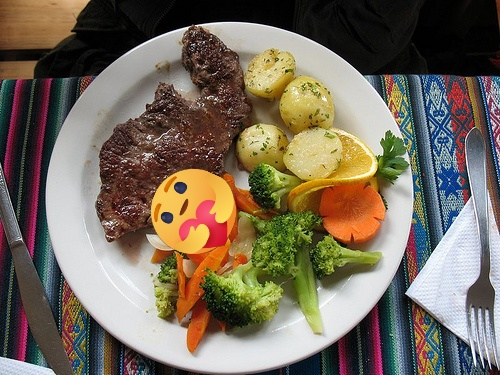care: (151, 169, 236, 254)
